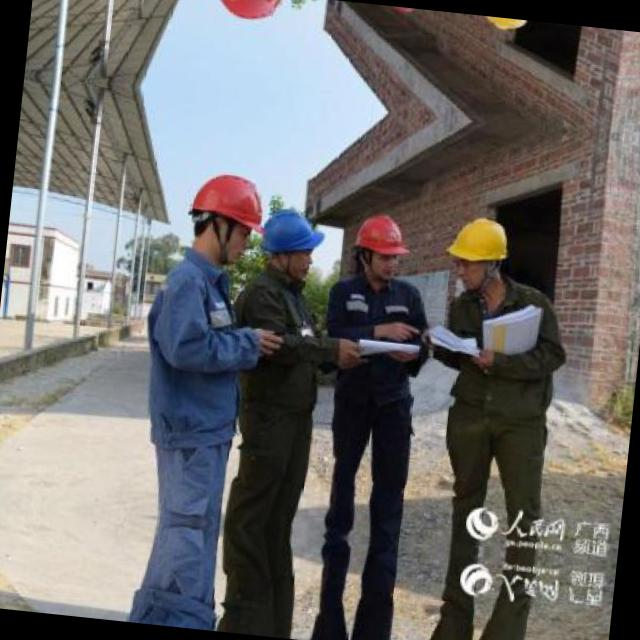helmet: (177, 165, 271, 272), (437, 206, 517, 292), (252, 200, 324, 278), (347, 206, 411, 286), (202, 0, 291, 29), (462, 14, 538, 40)
